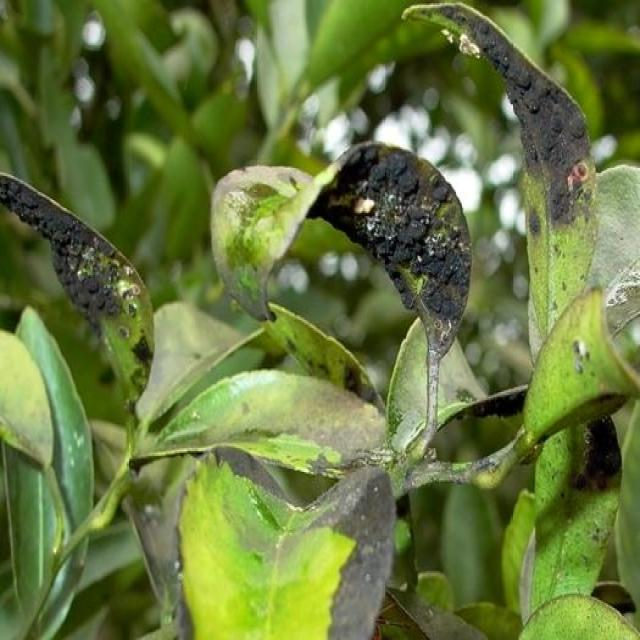Sooty Mold: (0, 113, 491, 640)
